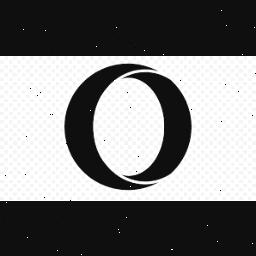o: (58, 58, 198, 192)
